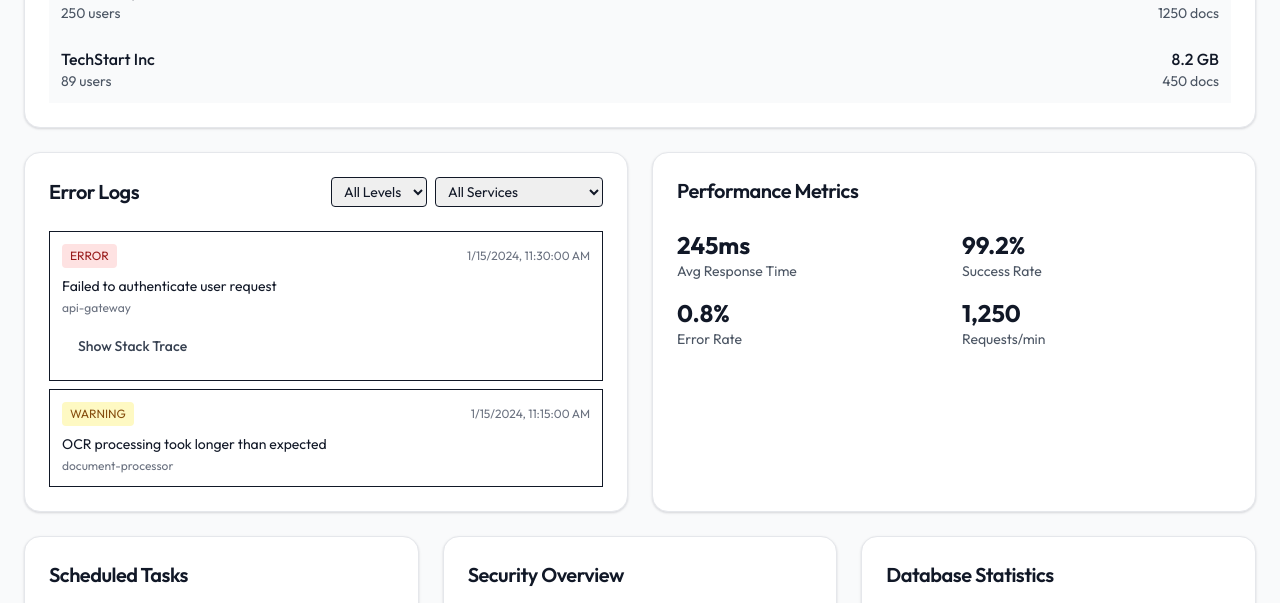
Test: AdminDashboardPage › Error Logs Viewer › should display stack traces for errors
(page scrolled)
Click the button with test id "expand-stack-trace-1": (133, 346) [62,324,203,368]
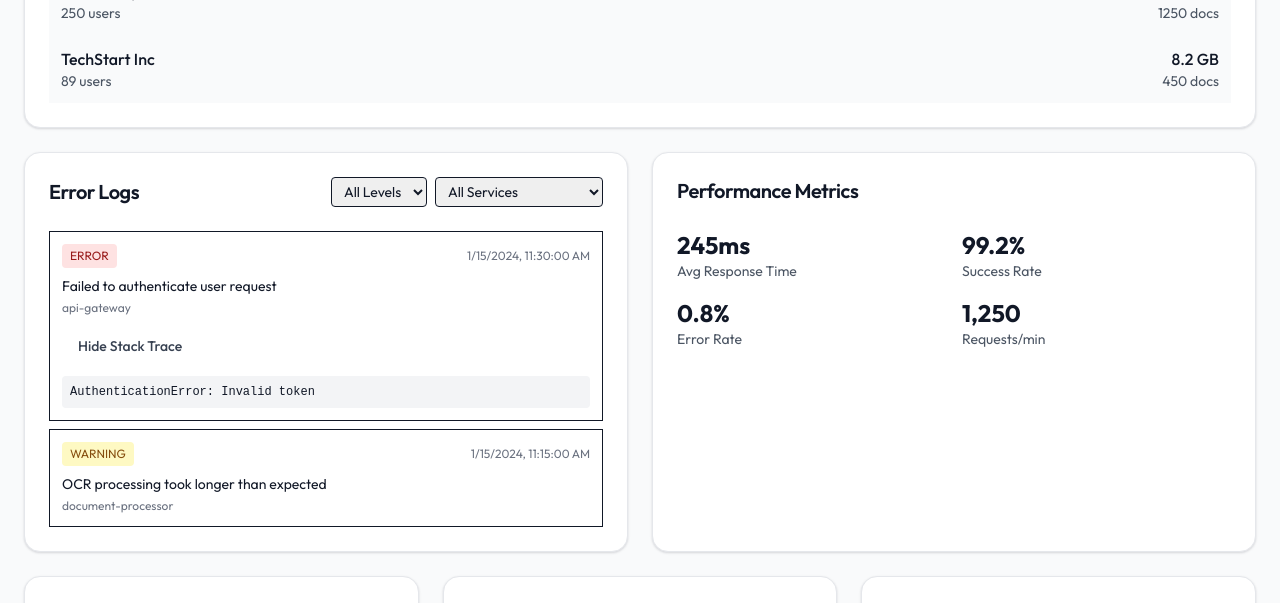
Now the text "AuthenticationError: Invalid token" is shown, box [62,376,590,408]
